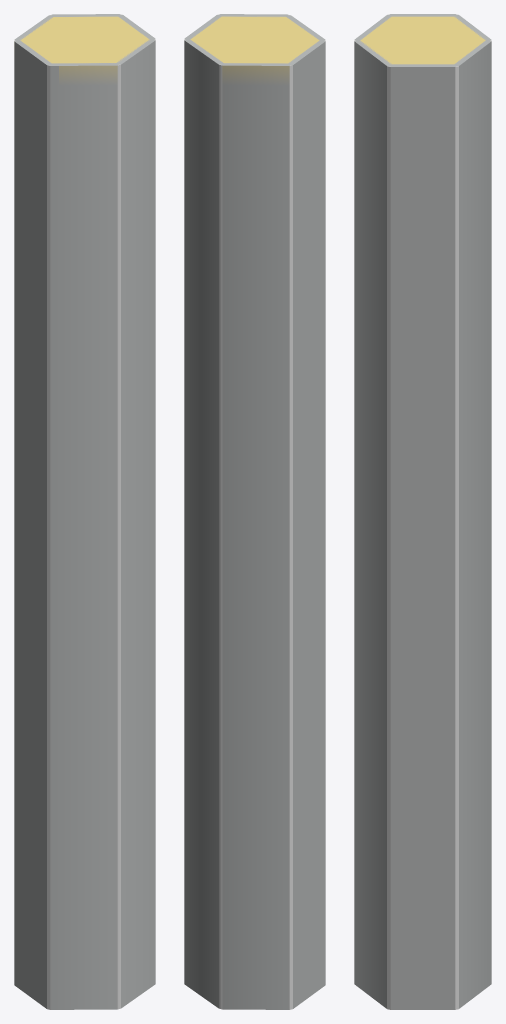
The model's file is Hexa_1_LP_Integration 1.fbx.
3 views of the same model, side by side, from view 1: azimuth 30°, elevation 25°; view 2: azimuth 150°, elevation 25°; view 3: azimuth 270°, elevation 25° (orthographic).
Parts seen in each view (by area): view 1: Tile_Hex_LP_++; view 2: Tile_Hex_LP_++; view 3: Tile_Hex_LP_++.
Boxes of the visible parts, x1,y1,x2,y2 form: Tile_Hex_LP_++: (14,14,155,1009); Tile_Hex_LP_++: (184,14,325,1009); Tile_Hex_LP_++: (354,14,491,1009).
Size of the model in its own units: 180 by 1493 by 197.
2 materials, 1 textured.
